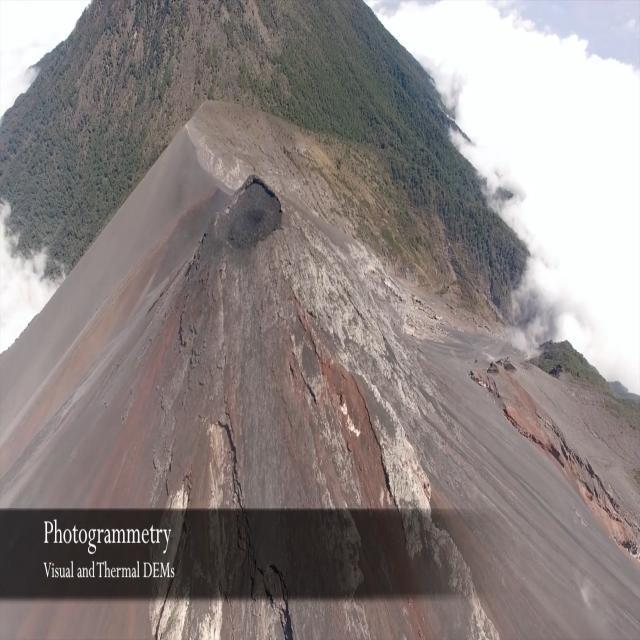Summit: (90, 168, 467, 506)
